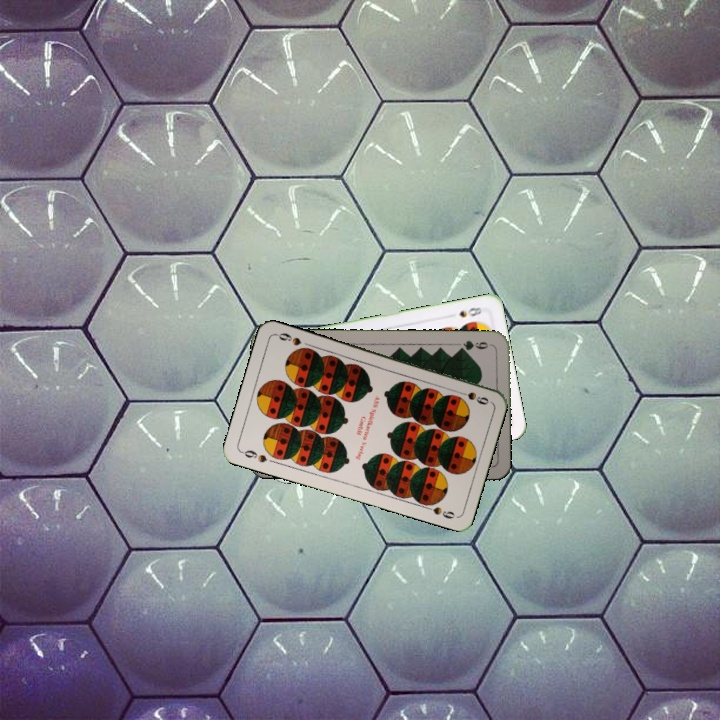G9: (454, 336, 495, 353)
S8: (455, 303, 484, 320)
S9: (452, 387, 492, 407), (237, 446, 270, 465)
